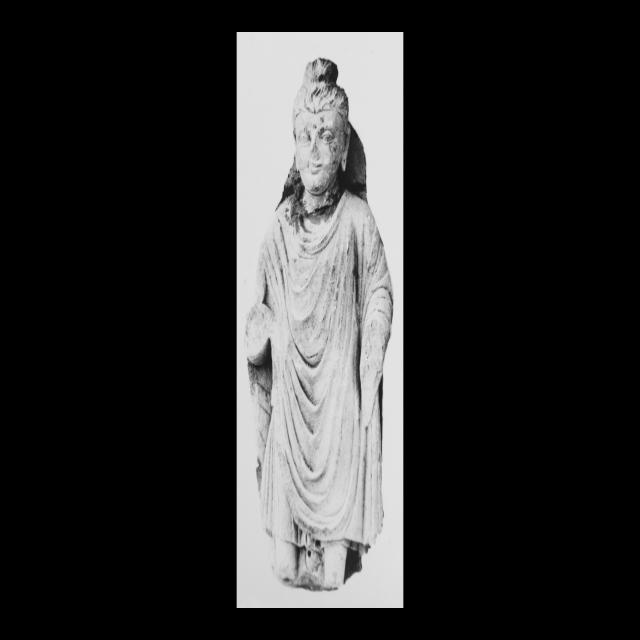buddha-standing: (245, 58, 392, 591)
